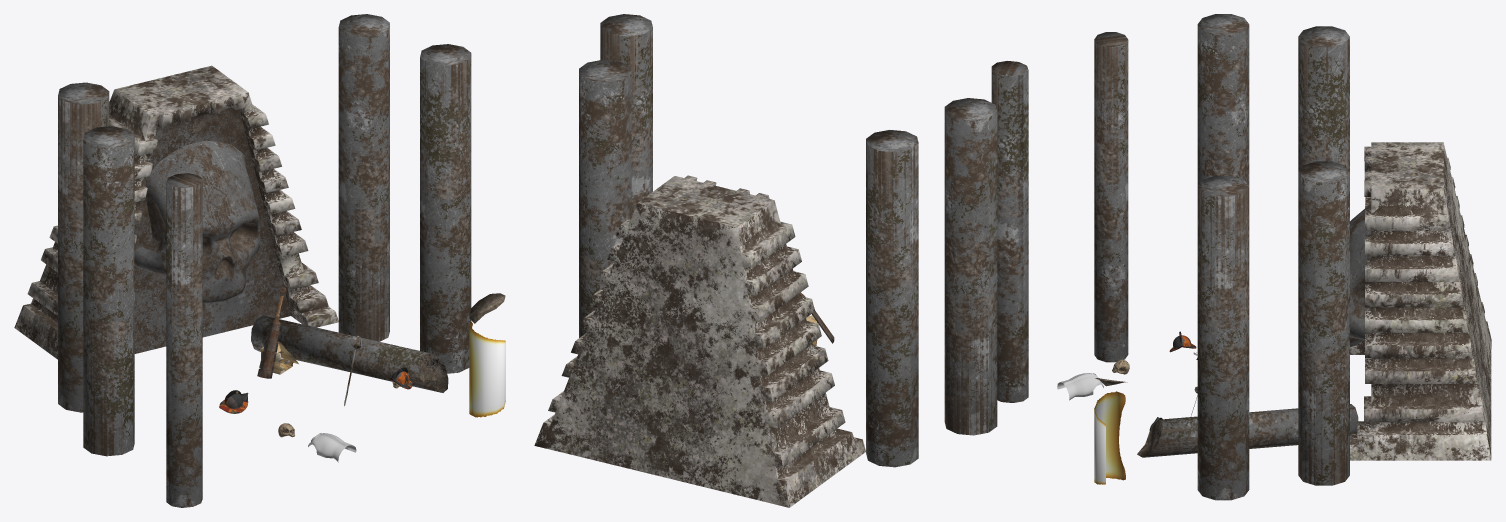
Rendered from templ.fbx.
3 renders of one model, left to right at view 1: azimuth 30°, elevation 25°; view 2: azimuth 150°, elevation 25°; view 3: azimuth 270°, elevation 25°, orthographic. The views are drawn at different scales.
Parts seen in each view (by area): view 1: gate? Stairway? wall?.001, Tree.007, Tree.005, Tree.001, Tree.008, planebackup.003, Tree.006, Tree.009, Tree.002, Central weapon piece, Breastplate(Use this dumdum); view 2: gate? Stairway? wall?.001, Tree.007, Tree.006, Tree.008, Tree.005, Tree.001; view 3: gate? Stairway? wall?.001, Tree.001, Tree.005, Tree.008, Tree.007, Tree.006, Tree.009, Tree.002, planebackup.003, Breastplate(Use this dumdum).
Part boxes in pixels (left/top/right/bottom): gate? Stairway? wall?.001: left=14, top=65, right=338, bottom=359; Tree.007: left=83, top=126, right=134, bottom=456; Tree.005: left=338, top=14, right=389, bottom=341; Tree.001: left=420, top=44, right=471, bottom=373; Tree.008: left=166, top=173, right=202, bottom=507; planebackup.003: left=134, top=140, right=260, bottom=302; Tree.006: left=58, top=82, right=109, bottom=412; Tree.009: left=251, top=315, right=448, bottom=392; Tree.002: left=469, top=293, right=505, bottom=417; Central weapon piece: left=257, top=287, right=286, bottom=378; Breastplate(Use this dumdum): left=308, top=433, right=356, bottom=462; gate? Stairway? wall?.001: left=534, top=175, right=865, bottom=507; Tree.007: left=944, top=98, right=997, bottom=435; Tree.006: left=866, top=130, right=918, bottom=467; Tree.008: left=991, top=61, right=1028, bottom=402; Tree.005: left=579, top=59, right=631, bottom=337; Tree.001: left=600, top=14, right=652, bottom=215; gate? Stairway? wall?.001: left=1350, top=142, right=1491, bottom=460; Tree.001: left=1197, top=176, right=1249, bottom=500; Tree.005: left=1298, top=161, right=1349, bottom=485; Tree.008: left=1094, top=32, right=1128, bottom=362; Tree.007: left=1197, top=14, right=1249, bottom=185; Tree.006: left=1298, top=26, right=1349, bottom=171; Tree.009: left=1137, top=404, right=1358, bottom=457; Tree.002: left=1094, top=378, right=1127, bottom=484; planebackup.003: left=1350, top=204, right=1371, bottom=347; Breastplate(Use this dumdum): left=1057, top=373, right=1103, bottom=400.
Bounding box in the file's own units: 22785 × 18694 × 22904.
